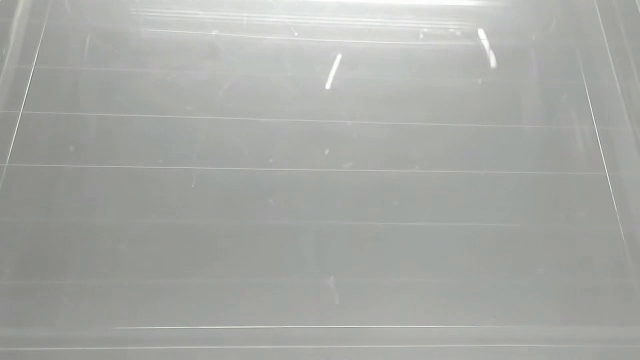alpha: (475, 24, 502, 71), (323, 51, 345, 92)
